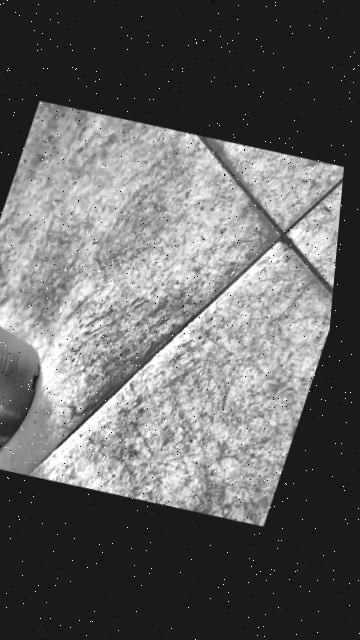pot: (0, 288, 66, 474)
